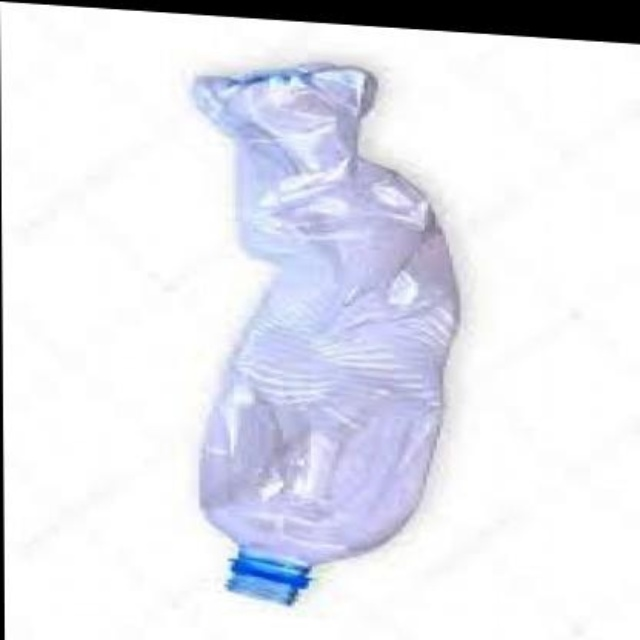trash: (195, 63, 457, 602)
